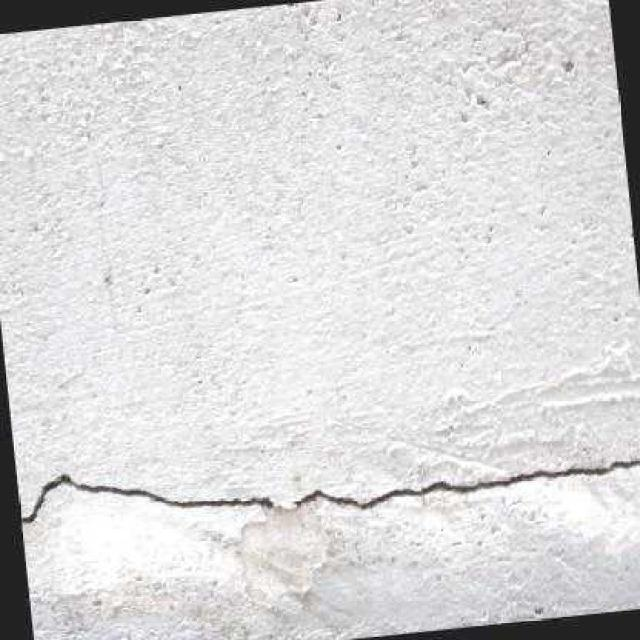D00: (19, 455, 640, 523)
